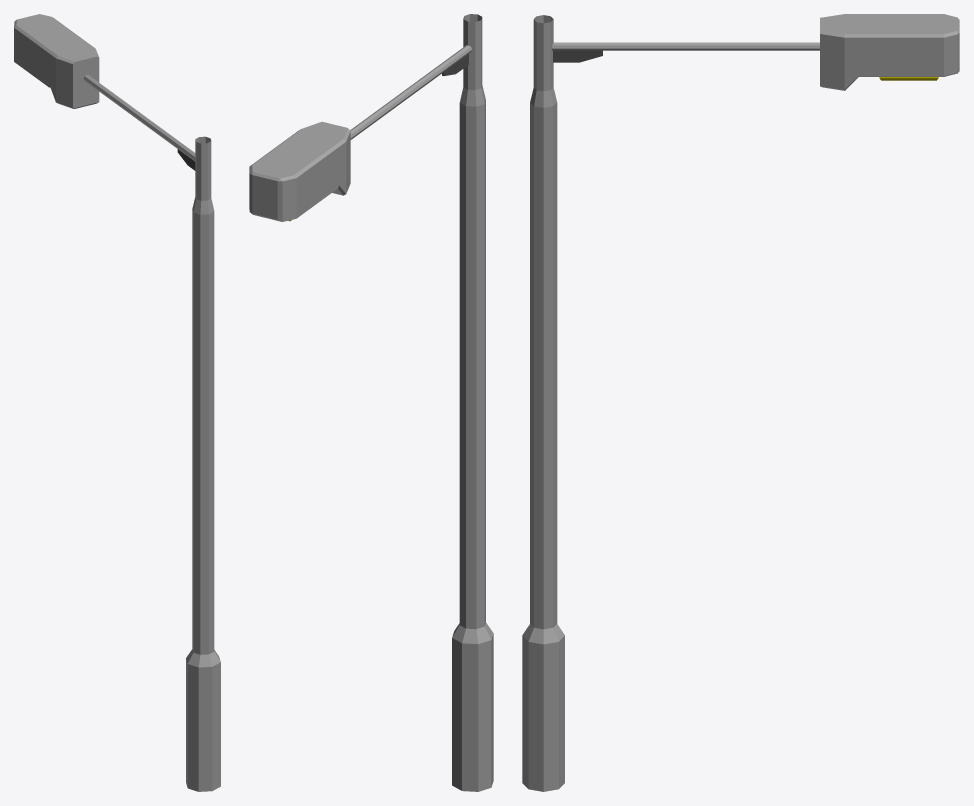
Rendered from Farola.fbx.
3 views of the same model, side by side, from view 1: azimuth 30°, elevation 25°; view 2: azimuth 150°, elevation 25°; view 3: azimuth 270°, elevation 25° (orthographic). The views are drawn at different scales.
Parts seen in each view (by area): view 1: Cylinder001; view 2: Cylinder001; view 3: Cylinder001.
Part boxes in pixels (x1,y1,x2,y2): Cylinder001: (14, 14, 220, 791); Cylinder001: (249, 14, 493, 791); Cylinder001: (522, 14, 959, 791).
Bounding box in the file's own units: 38.04 × 590 × 306.
